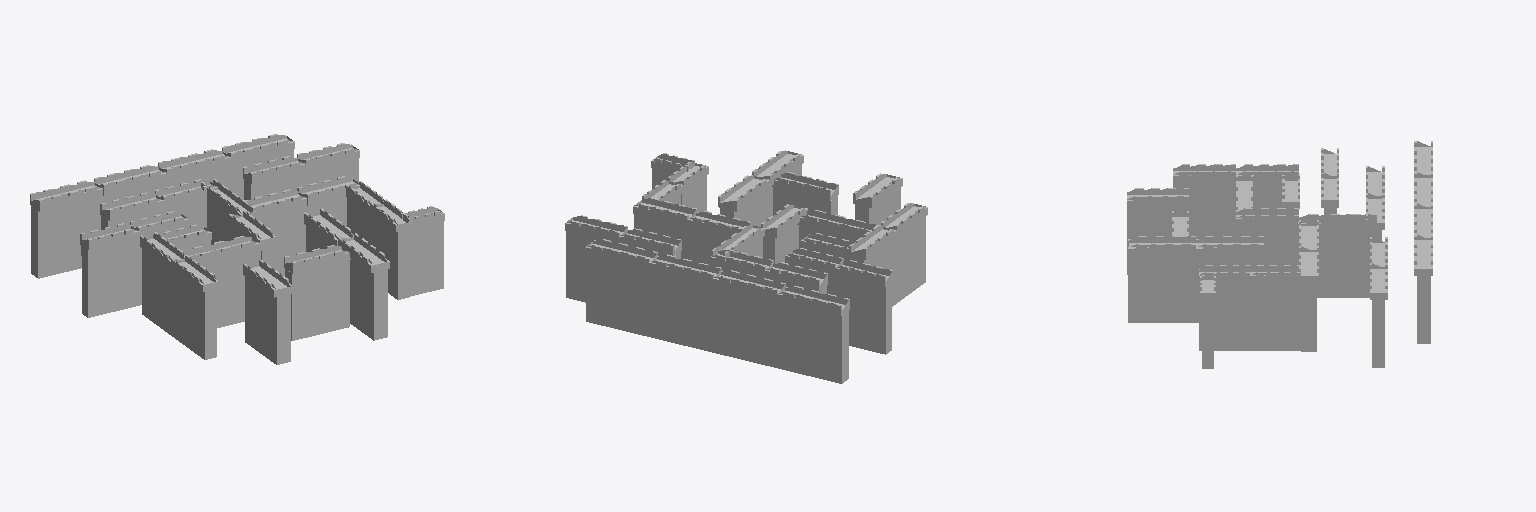
The model's file is Walls.obj.
The picture shows the model from 3 angles: view 1: azimuth 30°, elevation 25°; view 2: azimuth 150°, elevation 25°; view 3: azimuth 270°, elevation 25°; orthographic projection.
Parts seen in each view (by area): view 1: Paredes; view 2: Paredes; view 3: Paredes.
Part boxes in pixels (x1,y1,x2,y2): Paredes: (30,134,444,364); Paredes: (565,150,927,383); Paredes: (1127,141,1432,368).
Bounding box in the file's own units: 144 × 39.13 × 128.